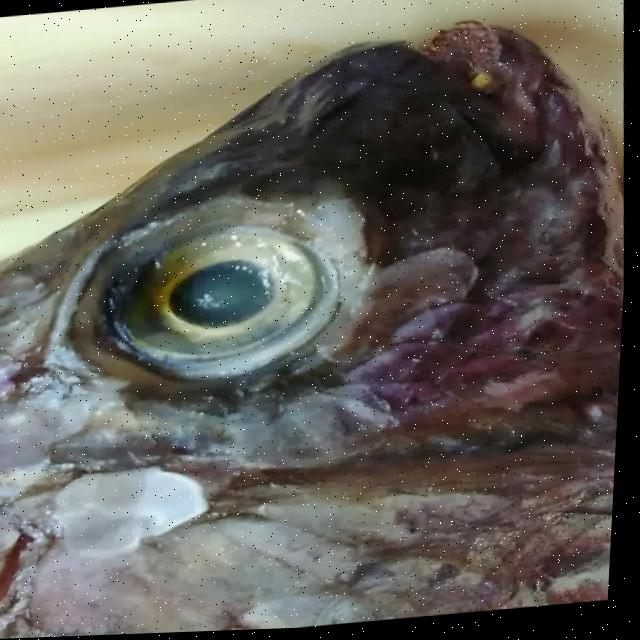Non-Fresh: (70, 164, 379, 418)
